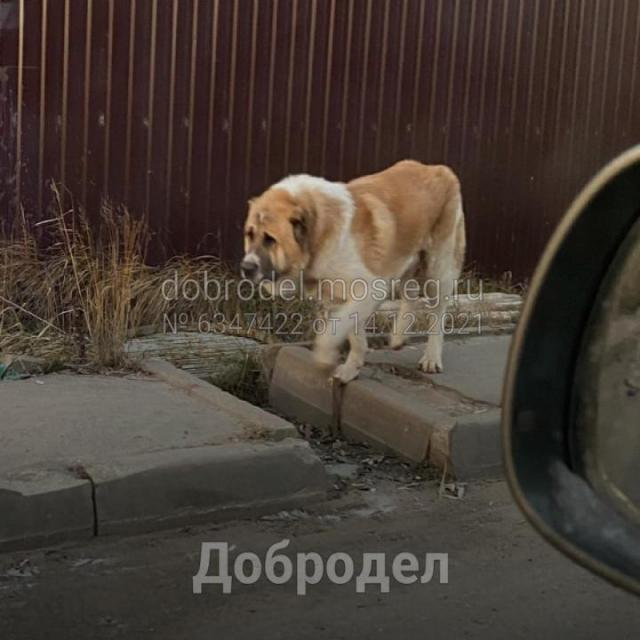dog: (235, 152, 477, 386)
